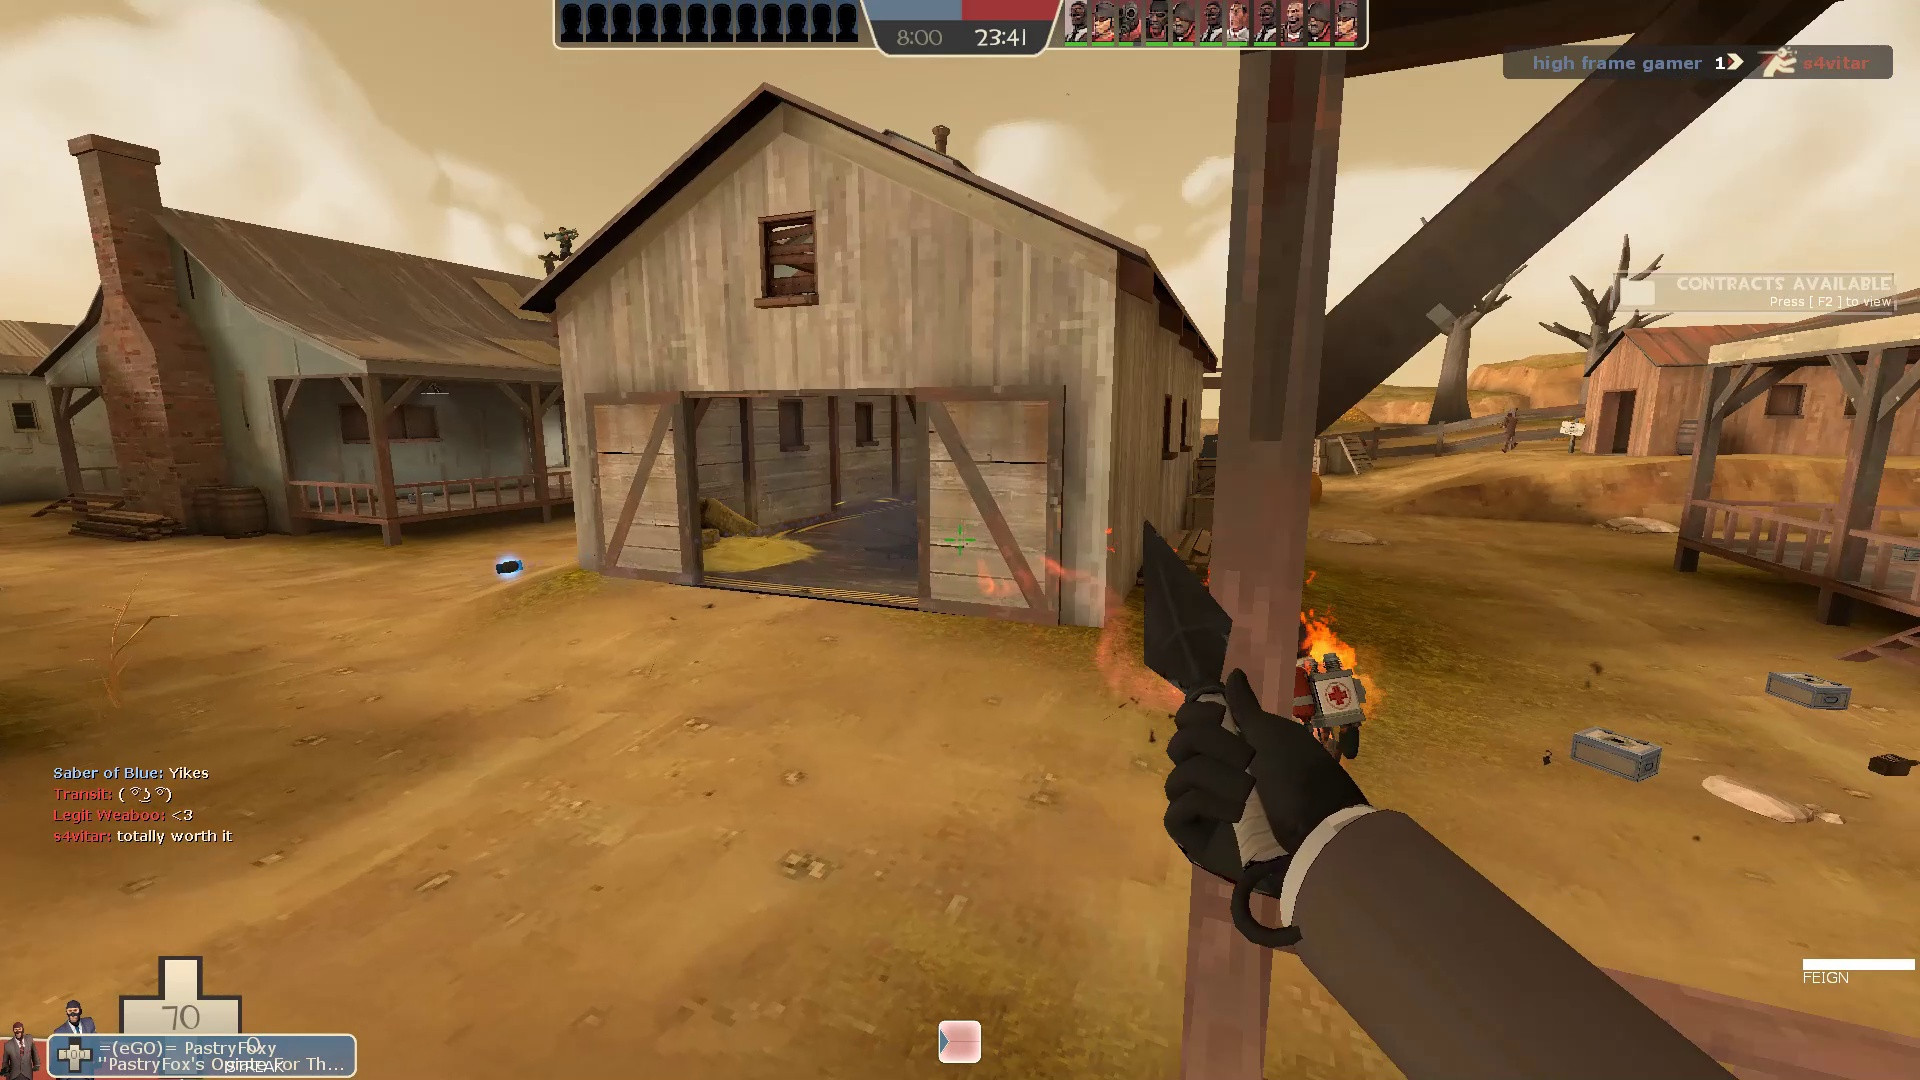red_medic: (1228, 611, 1371, 800)
